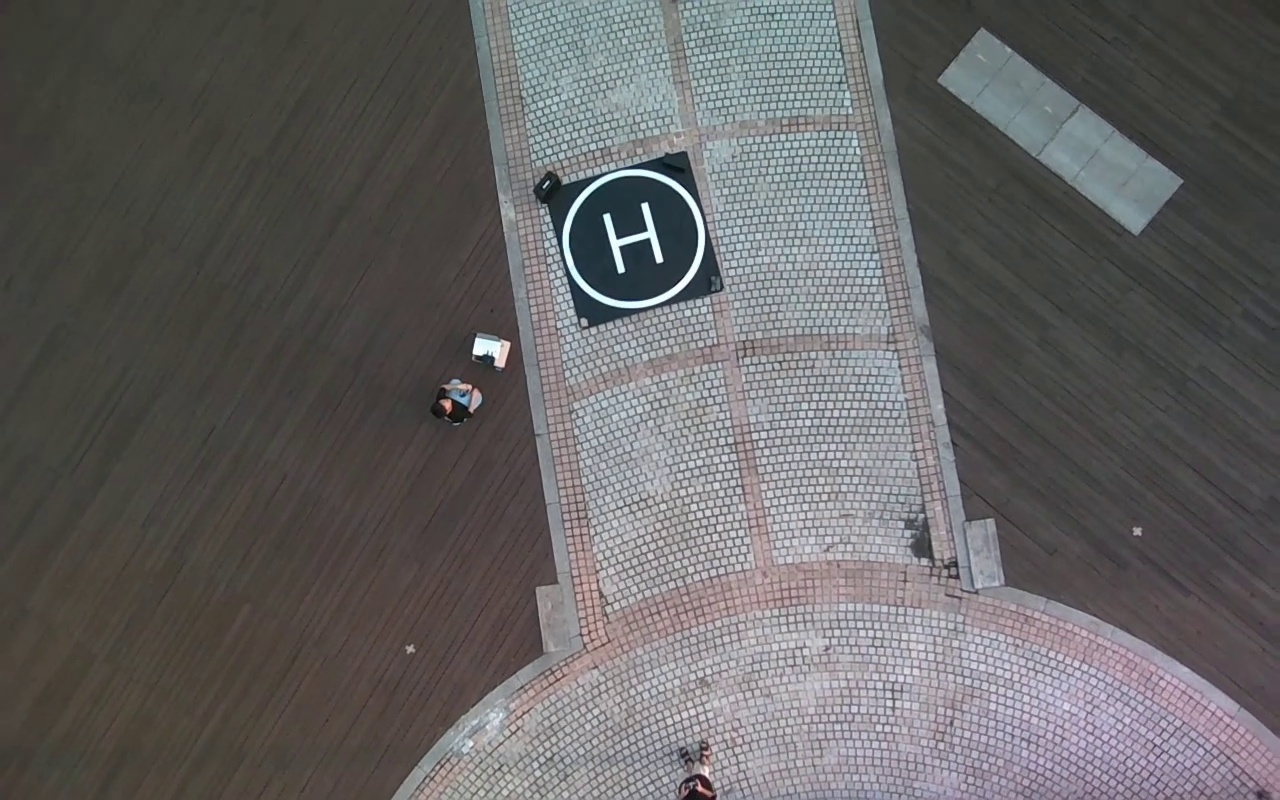H: (601, 201, 665, 275)
heliport: (562, 168, 707, 308)
